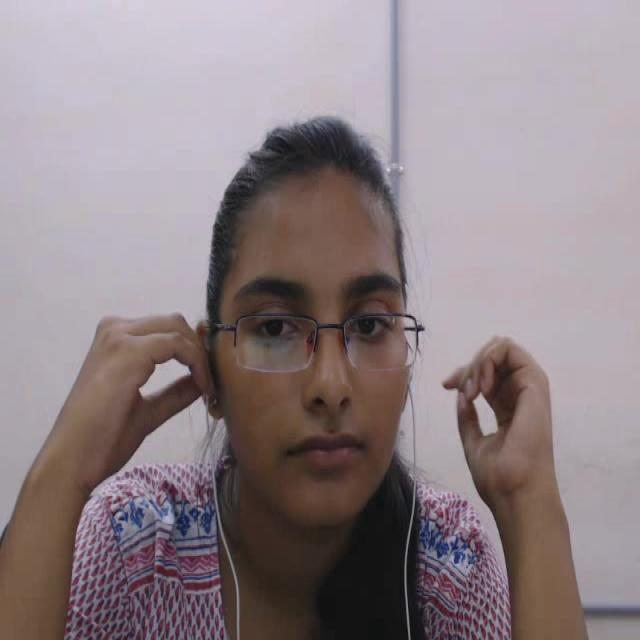Bored: (181, 104, 454, 558)
